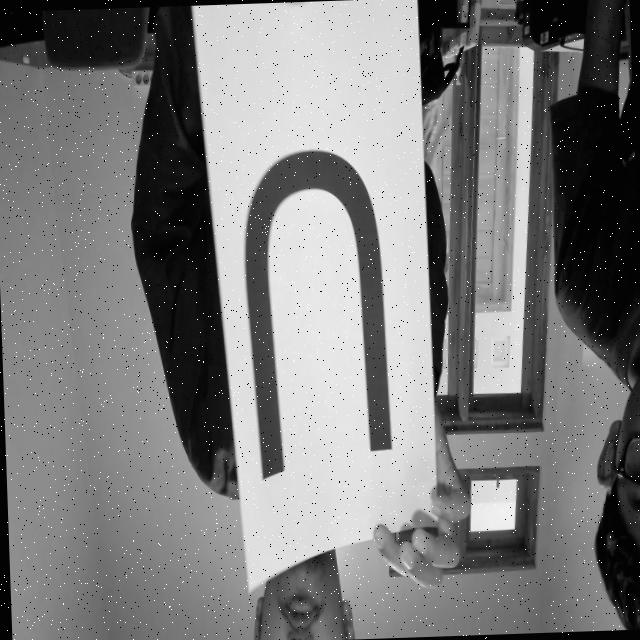u: (218, 141, 402, 487)
